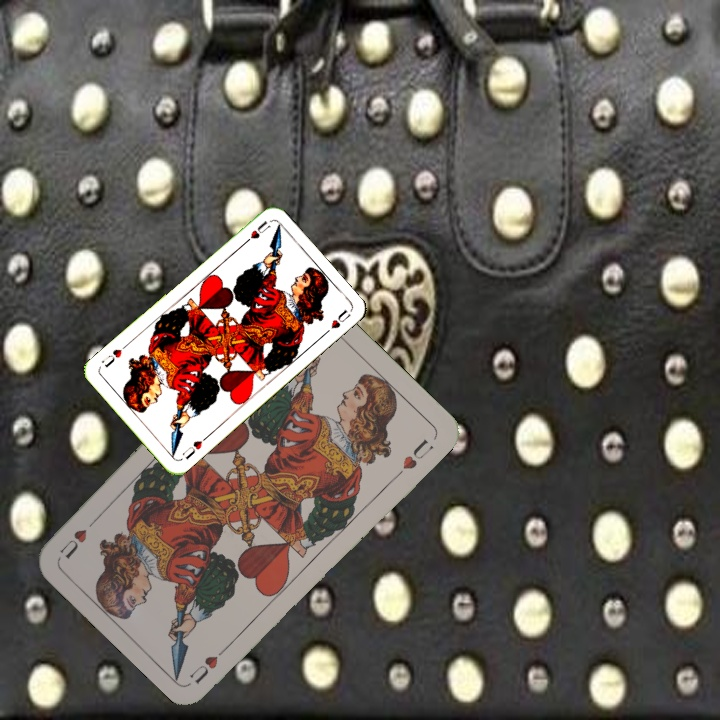HU: (185, 639, 234, 687), (239, 217, 273, 248), (178, 432, 210, 462)
